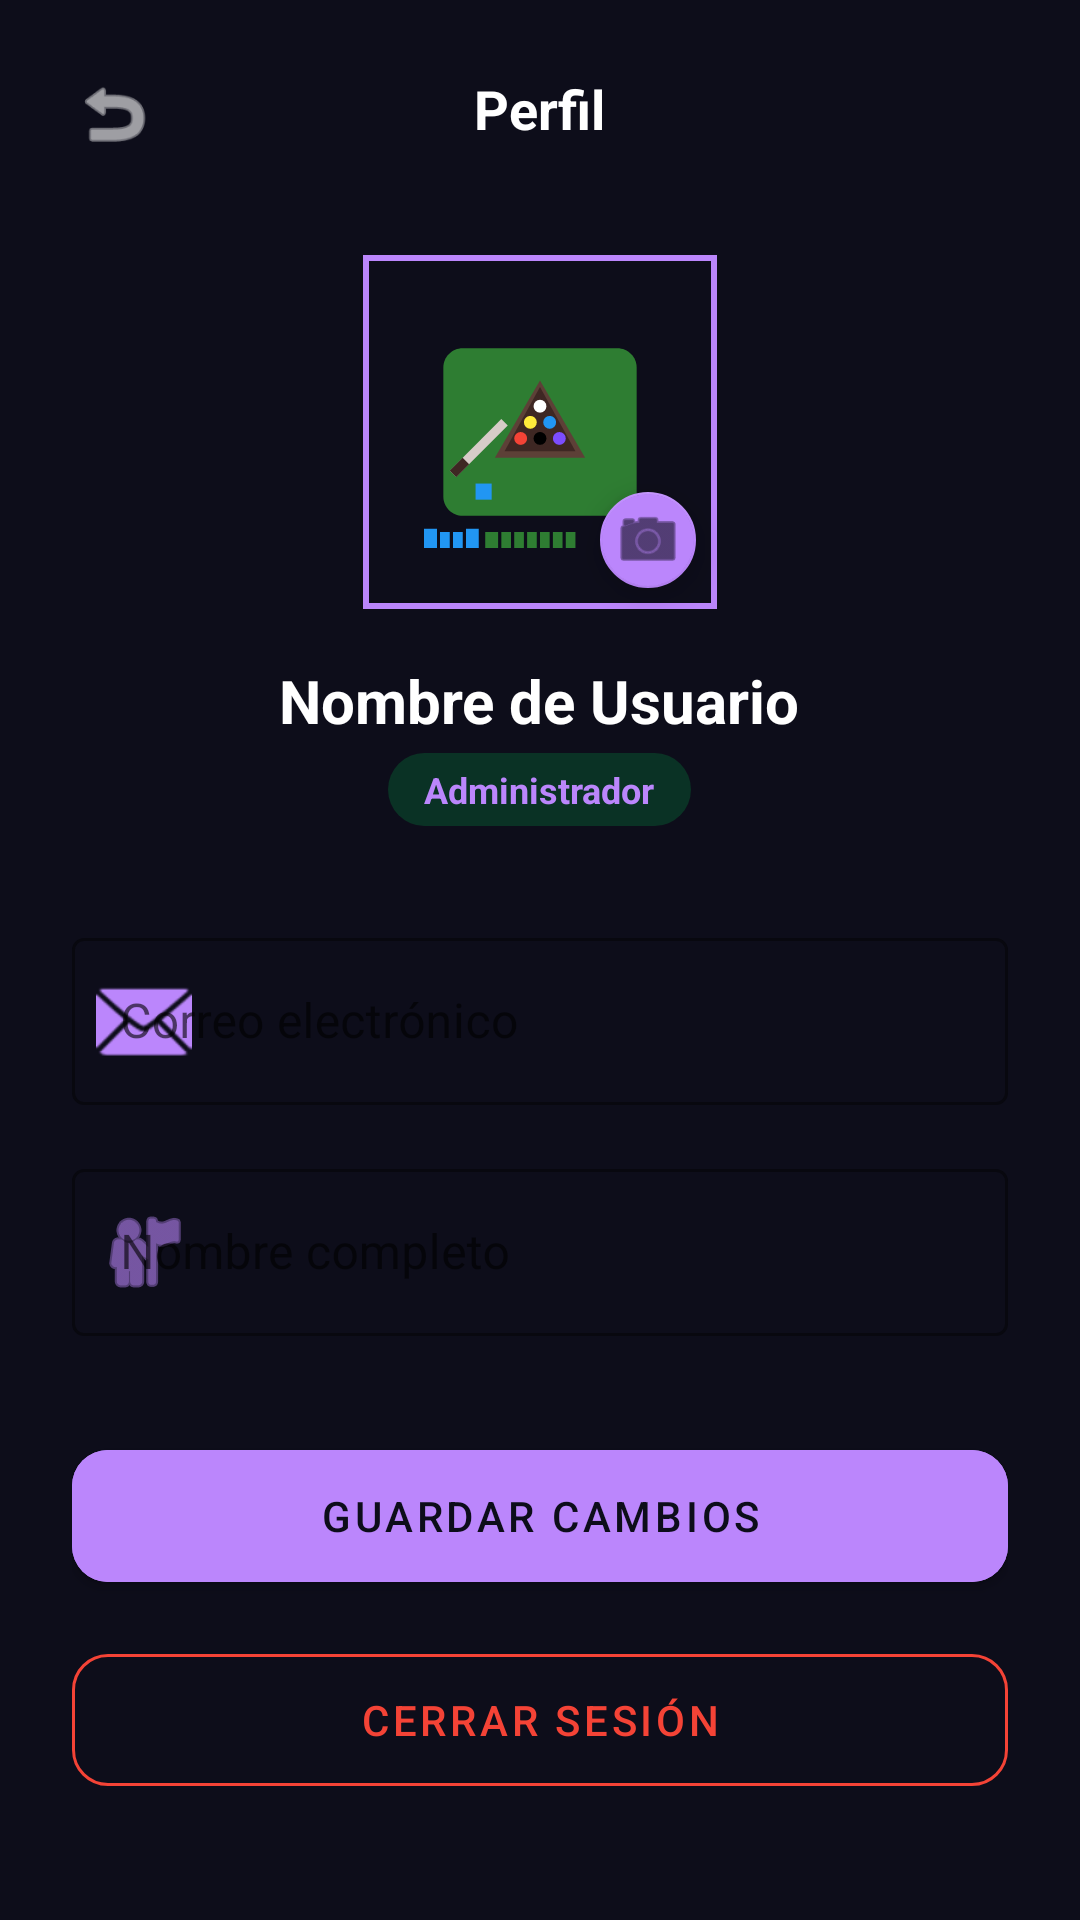

Named icons in this screenshot (1080*1920) and their centers, (x=x, y=y):
camera: (x=646, y=538)
revert: (x=115, y=114)
